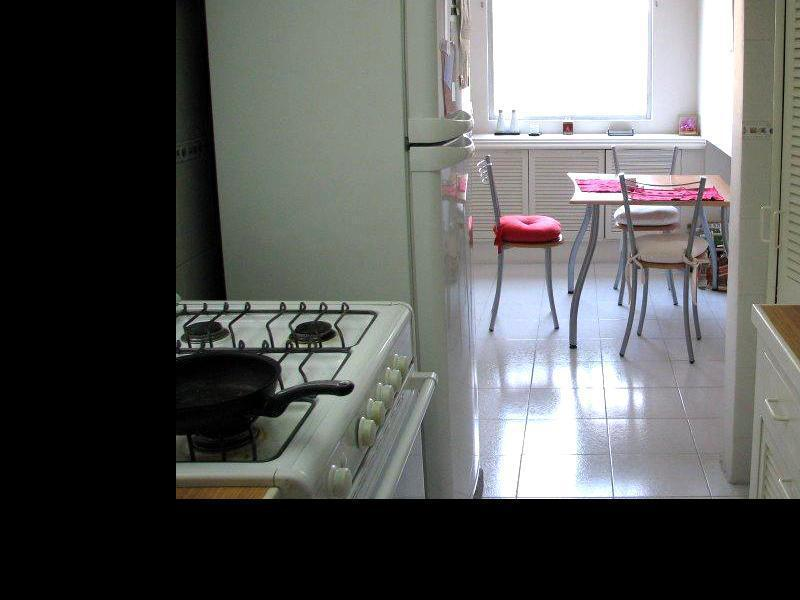Armario: (779, 0, 800, 295)
Electrodomestico: (182, 297, 432, 493), (403, 0, 489, 495)
